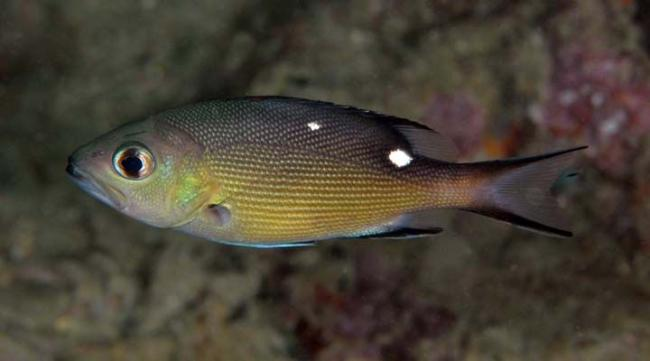fish: (65, 95, 591, 249)
